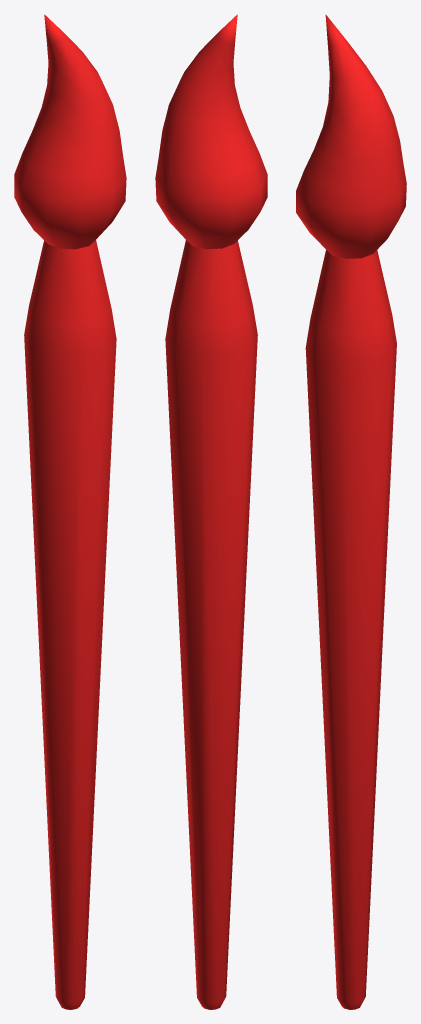
Rendered from Brush.FBX.
The picture shows the model from 3 angles, left to right: view 1: azimuth 30°, elevation 25°; view 2: azimuth 150°, elevation 25°; view 3: azimuth 330°, elevation 25°; orthographic projection.
Parts seen in each view (by area): view 1: Brush; view 2: Brush; view 3: Brush.
Part boxes in pixels (<box>): Brush: <box>14,14,126,1009</box>; Brush: <box>155,14,267,1009</box>; Brush: <box>296,14,406,1009</box>.
Bounding box in the file's own units: 5.44 × 5.24 × 53.41.
